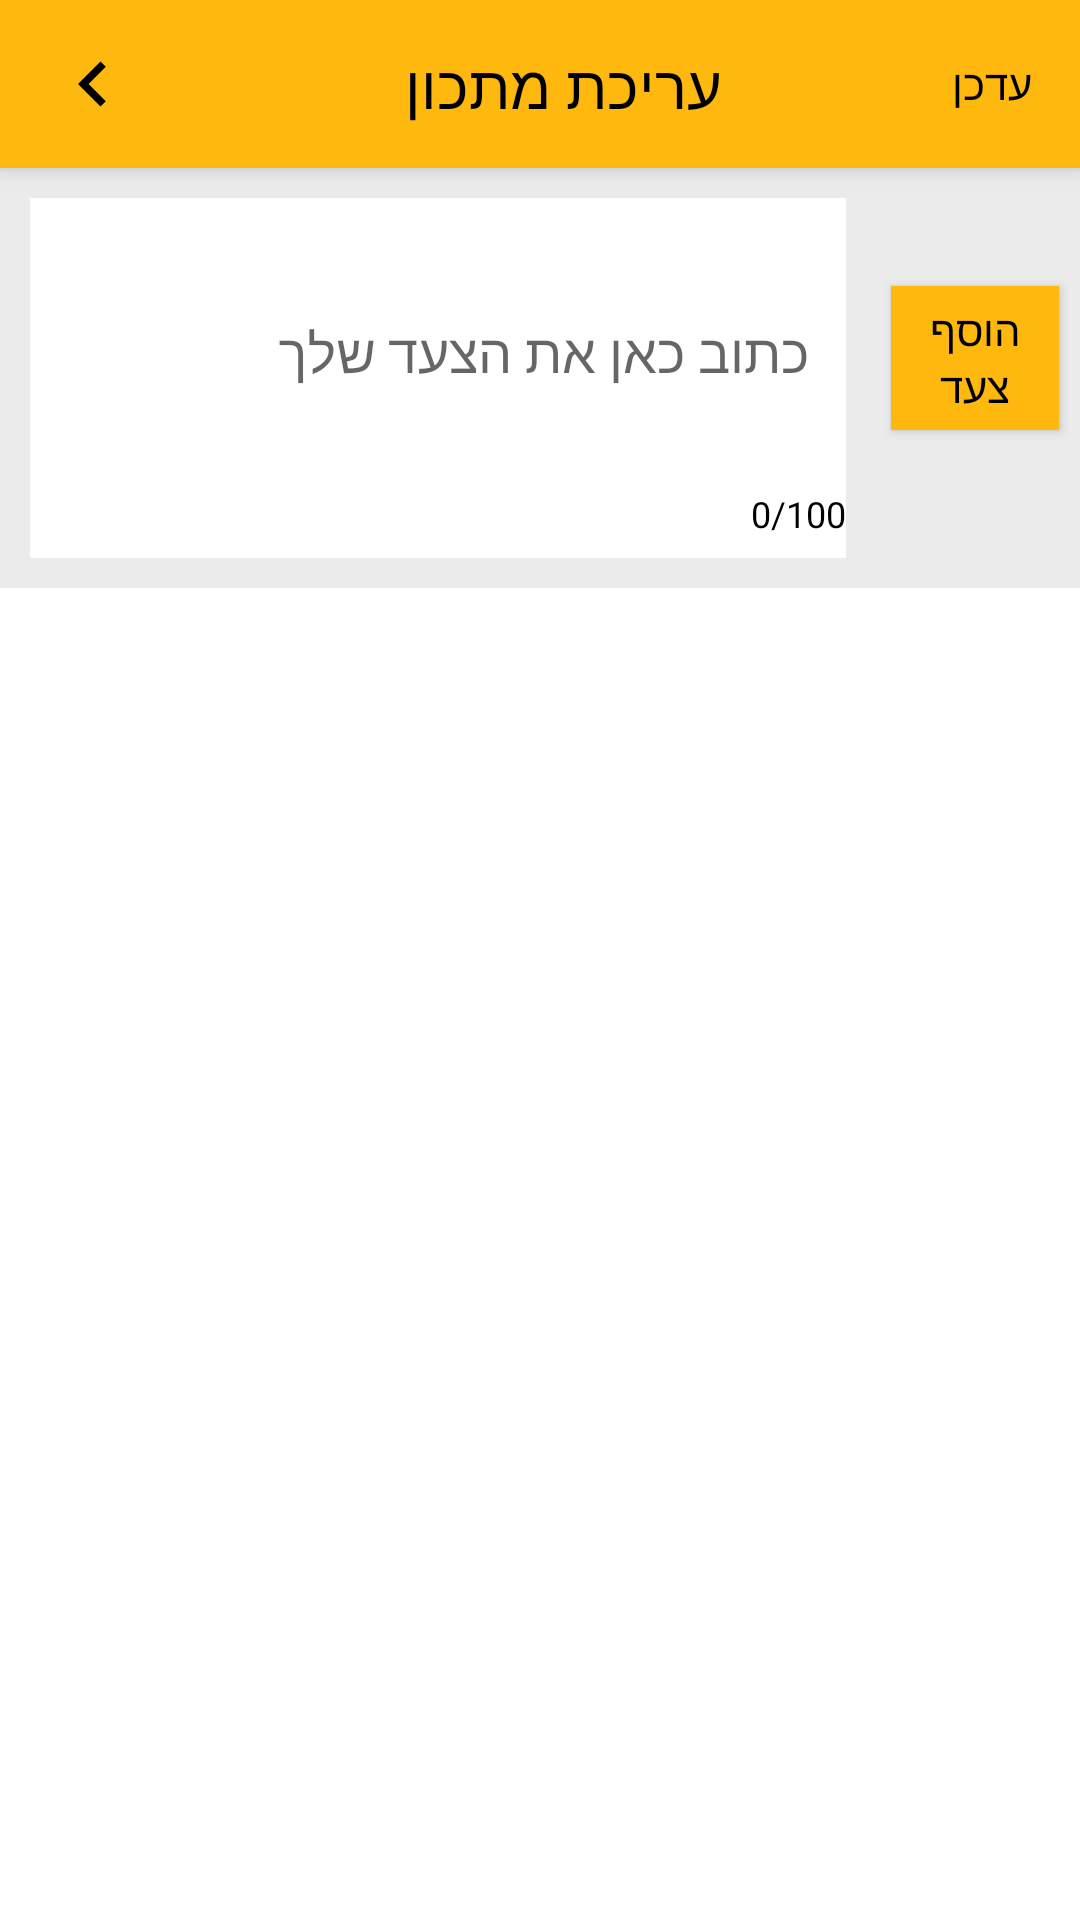

Screen size 1080*1920. Icon name, then its box in pixels as (x1, y1, x2, y2):
chevron left: (78, 61, 106, 107)
